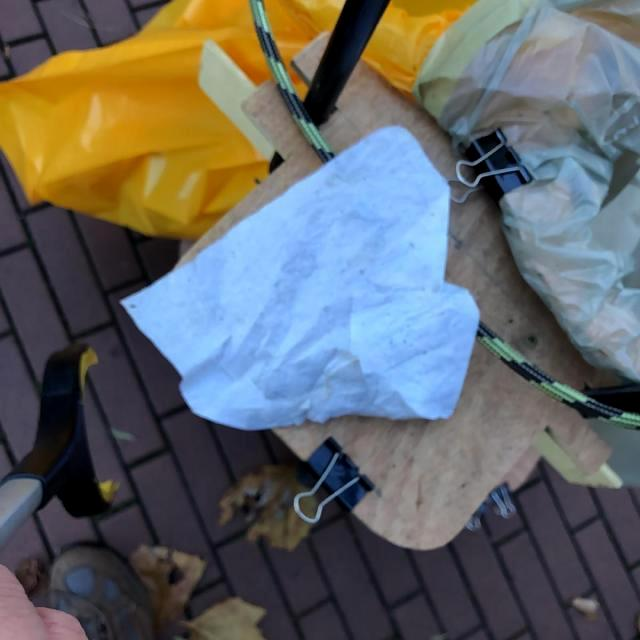Paper: (119, 124, 482, 432)
